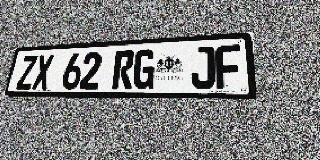2: (79, 52, 102, 89)
6: (61, 53, 84, 89)
F: (216, 44, 242, 89)
G: (132, 49, 156, 89)
J: (191, 46, 215, 89)
R: (112, 50, 135, 89)
X: (32, 54, 54, 89)
Z: (16, 55, 38, 89)
